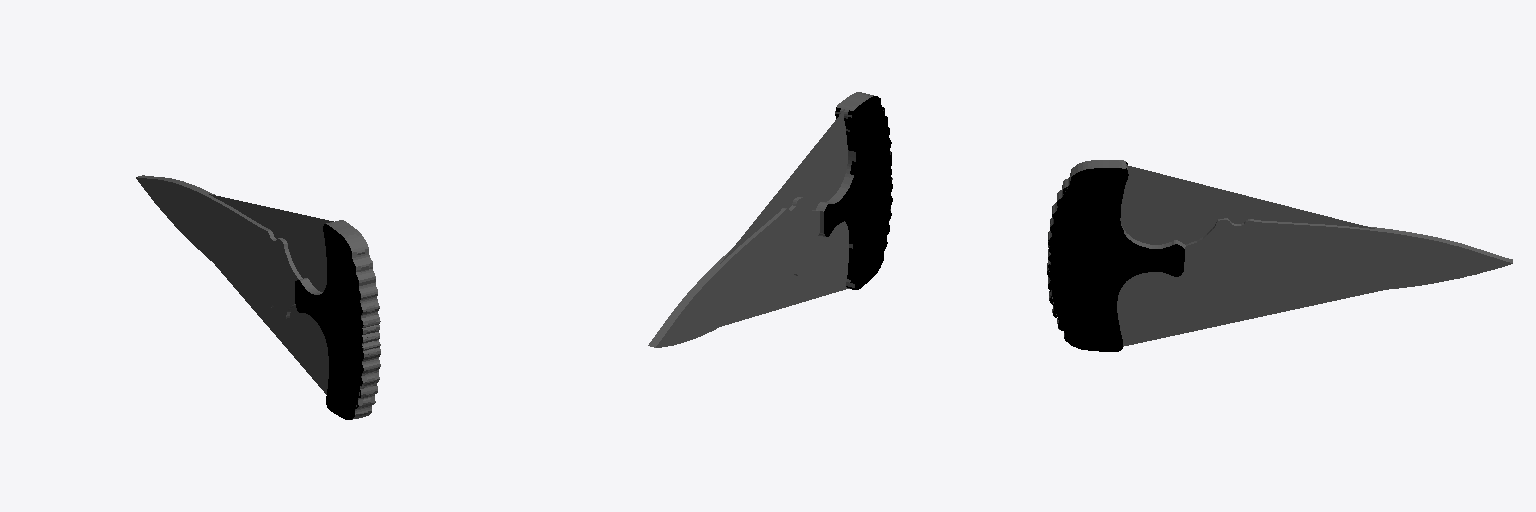
The model's file is dagger.obj.
3 views of the same model, side by side, from view 1: azimuth 30°, elevation 25°; view 2: azimuth 150°, elevation 25°; view 3: azimuth 270°, elevation 25° (orthographic).
Visible parts, largest first — view 1: Cube; view 2: Cube; view 3: Cube.
Boxes of the visible parts, x1=… form: Cube: x1=136, y1=175, x2=380, y2=419; Cube: x1=648, y1=92, x2=892, y2=347; Cube: x1=1047, y1=160, x2=1512, y2=351.
Bounding box in the file's own units: 0.42 × 4.36 × 9.99.